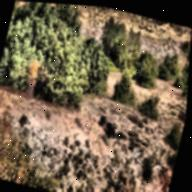boar: (98, 112, 108, 127), (109, 127, 118, 142), (104, 121, 115, 133), (104, 128, 115, 140)
